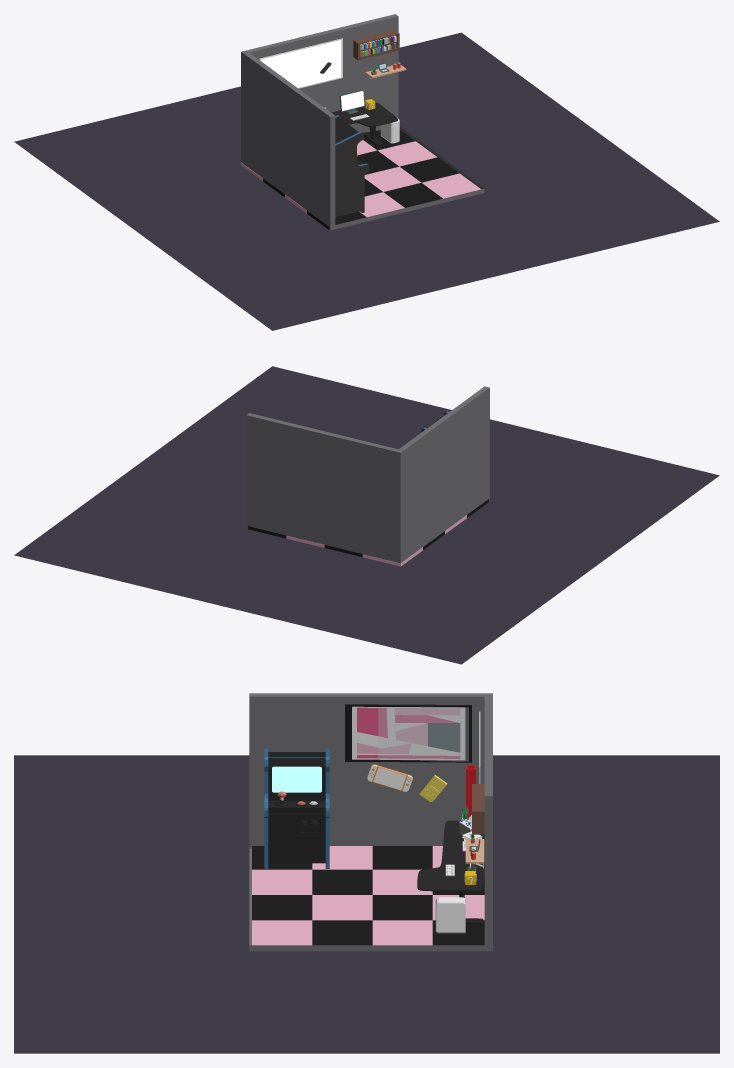
Rendered from scene_light.gltf.
The picture shows the model from 3 angles, top to bottom: view 1: azimuth 30°, elevation 25°; view 2: azimuth 150°, elevation 25°; view 3: azimuth 270°, elevation 25°; orthographic projection. The views are drawn at different scales.
Visible parts, largest first — view 1: Plane (×2), group202025954, White_board_Cube.045, ArcadeMachine_Cube002-Mesh_4, Plane001_Plane002; view 2: Plane (×2), group202025954; view 3: Plane (×2), group202025954, ArcadeMachine_Cube002-Mesh, Node-Mesh_6, Node-Mesh_1, Plane001_Plane002, Node-Mesh_2, Node-Mesh_3, Node-Mesh, GameScreen_Plane, ArcadeMachine_Cube002-Mesh_1, PC (+2 smaller).
Part boxes in pixels (left/top/right/bottom): Plane (×2): left=14, top=14, right=719, bottom=330; group202025954: left=240, top=130, right=480, bottom=229; White_board_Cube.045: left=259, top=38, right=342, bottom=88; ArcadeMachine_Cube002-Mesh_4: left=335, top=116, right=369, bottom=218; Plane001_Plane002: left=331, top=102, right=397, bottom=126; Plane (×2): left=14, top=366, right=719, bottom=664; group202025954: left=248, top=499, right=488, bottom=566; Plane (×2): left=14, top=693, right=719, bottom=1053; group202025954: left=252, top=846, right=484, bottom=945; ArcadeMachine_Cube002-Mesh: left=268, top=752, right=325, bottom=863; Node-Mesh_6: left=378, top=707, right=468, bottom=761; Node-Mesh_1: left=352, top=706, right=465, bottom=760; Plane001_Plane002: left=417, top=820, right=484, bottom=891; Node-Mesh_2: left=357, top=707, right=460, bottom=758; Node-Mesh_3: left=357, top=708, right=460, bottom=753; Node-Mesh: left=345, top=704, right=471, bottom=762; GameScreen_Plane: left=272, top=766, right=321, bottom=792; ArcadeMachine_Cube002-Mesh_1: left=264, top=748, right=329, bottom=868; PC: left=435, top=897, right=465, bottom=933.
Size of the model in its own units: 30 by 7.41 by 30.
